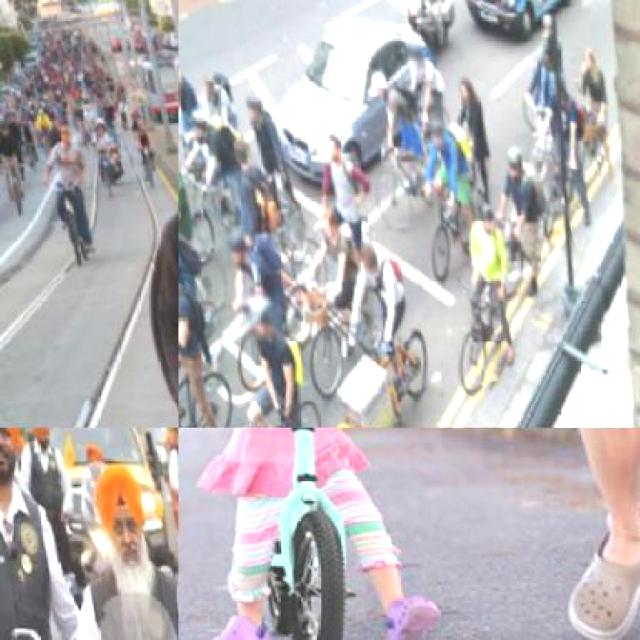With Helmet: (233, 284, 278, 341), (216, 220, 252, 272), (472, 190, 498, 235), (501, 133, 525, 175), (424, 108, 448, 150), (402, 31, 426, 68), (242, 87, 263, 124)
Without Helmet: (73, 443, 165, 575), (313, 114, 350, 166), (355, 234, 377, 272), (52, 114, 70, 138)
